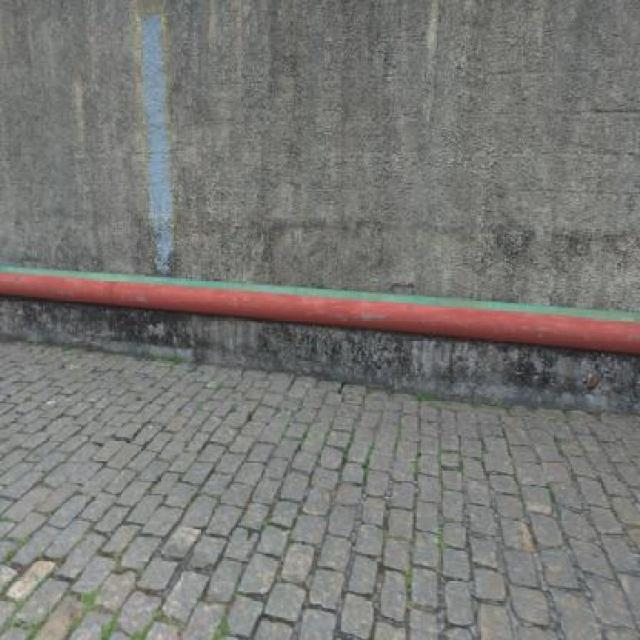gas: (0, 272, 639, 353)
